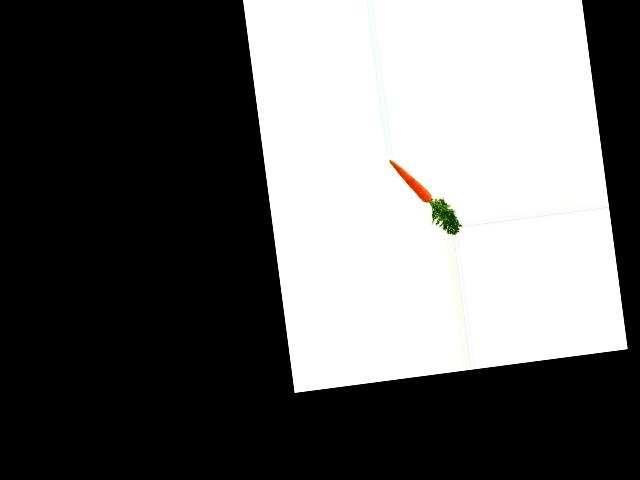carrot: (387, 153, 434, 212)
